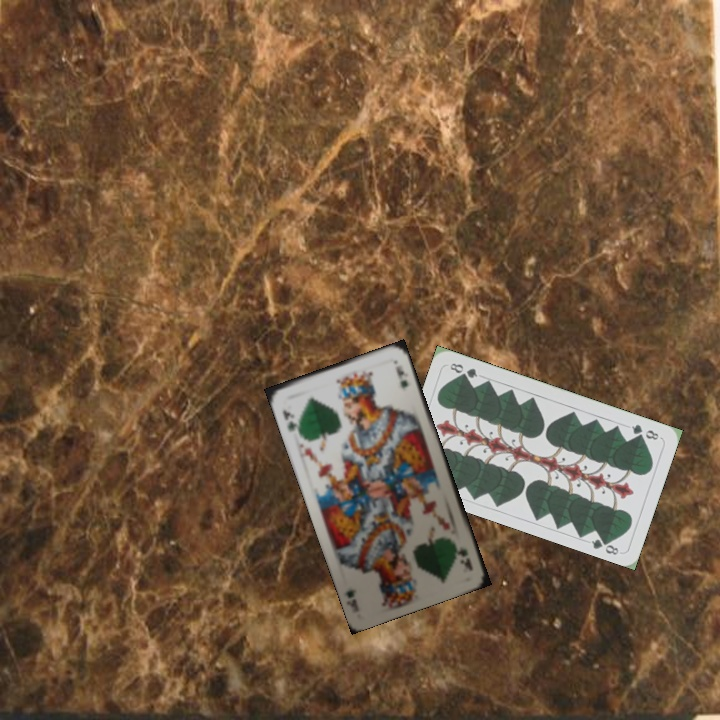G8: (627, 420, 661, 443)
GK: (279, 405, 302, 436), (455, 543, 475, 573)
